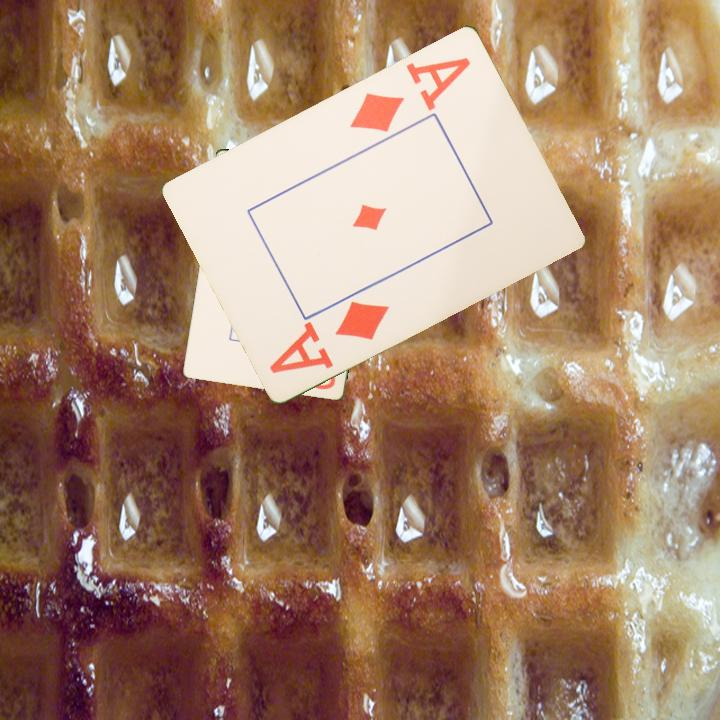Ad: (346, 52, 474, 135), (265, 296, 392, 376)
